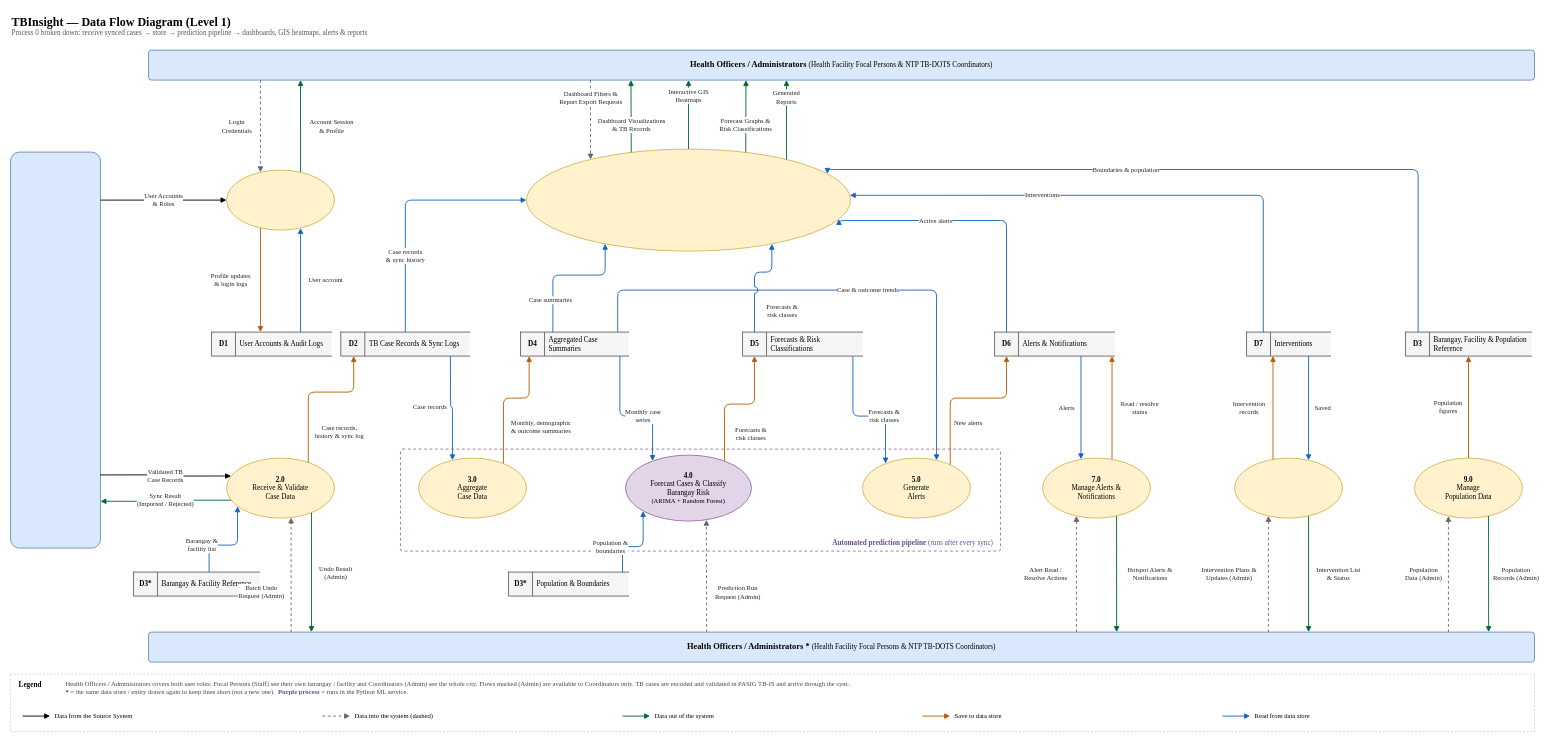
The diagram is 1550 pixels wide and 742 high, and some of its shapes have lost their labels. Each missing label, with the centre of its shape:
1.0 Authenticate Users: point 280,199
6.0 Display Dashboards, TB Records, GIS Heatmaps, Forecasts & Reports: point 688,199
8.0 Manage Interventions: point 1288,487
Source System (PASIG TB-IS): point 55,349
